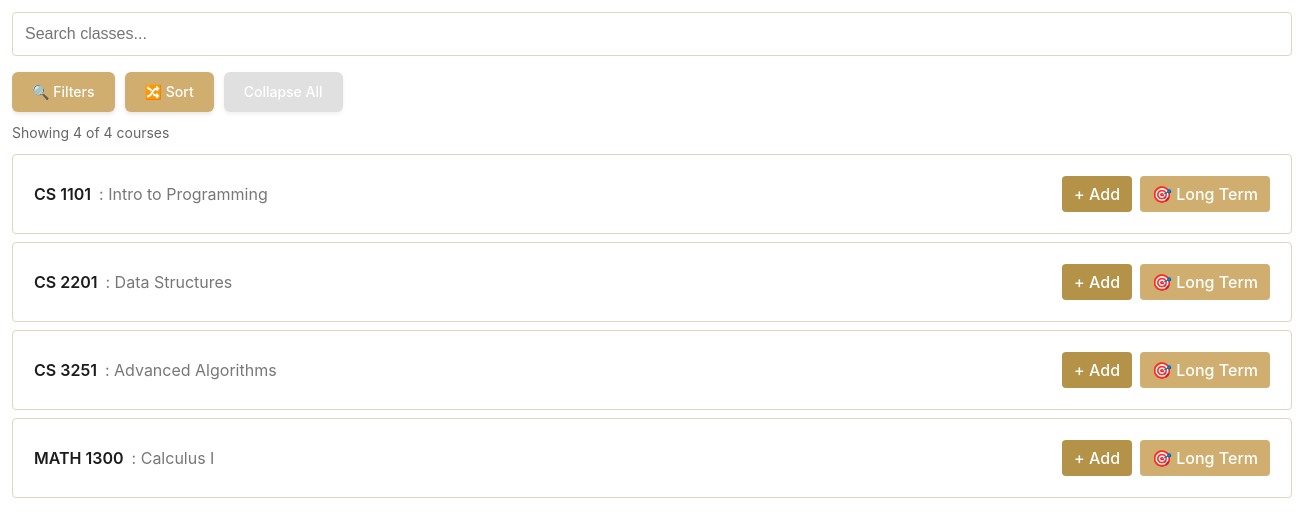
Test: SearchPage › Search Functionality › shows no classes found message when search has no results
Expected: the text "CS 1101" is shown, [34,182,91,207]
Type "XYZ 9999" into the field with placeholder "Search classes..." at (652, 34), box [12,12,1292,56]
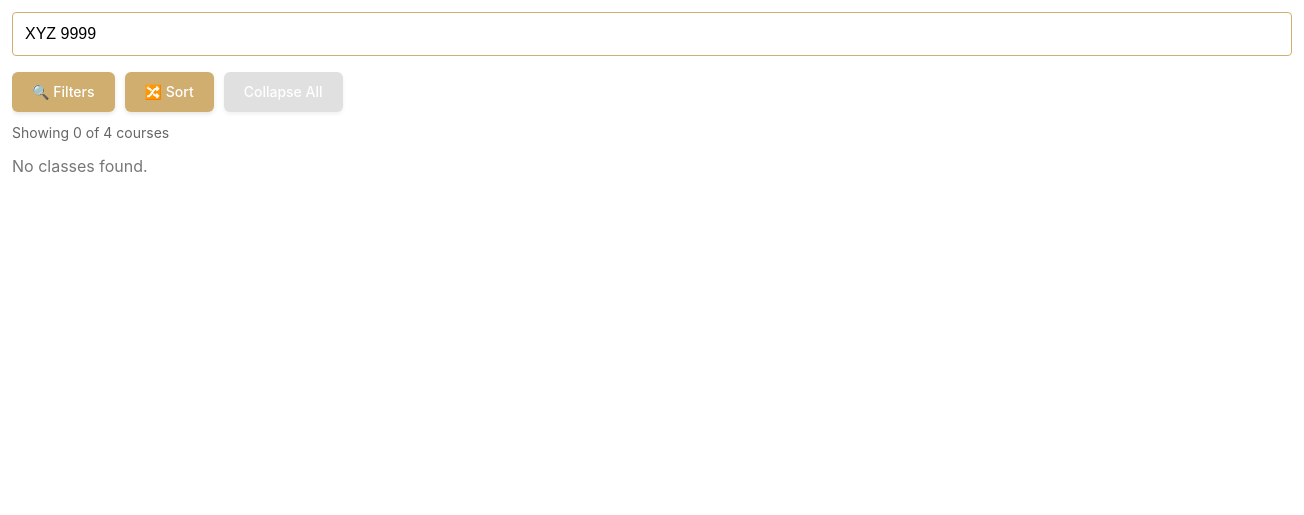
Expected: the list item "No classes found." is shown, [12,156,148,176]
